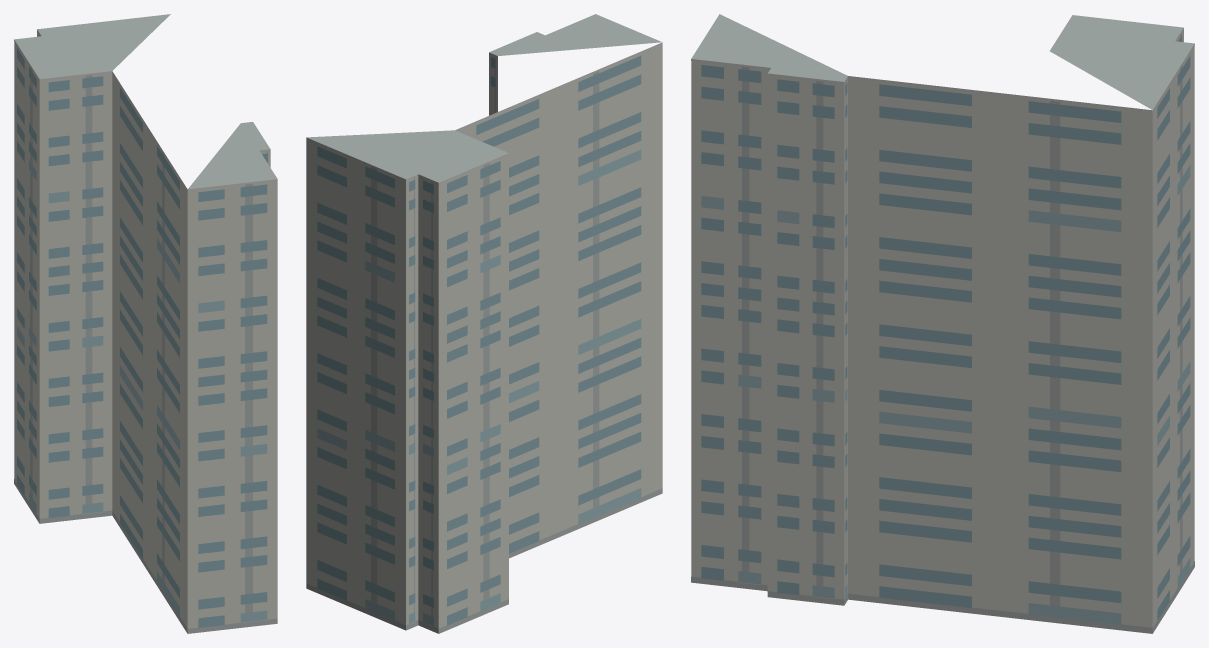
The model's file is residential-9817b2ed-4a1f-4ec3-84ad-56a0696925ec.glb.
3 renders of one model, left to right at view 1: azimuth 30°, elevation 25°; view 2: azimuth 150°, elevation 25°; view 3: azimuth 270°, elevation 25°, orthographic. The views are drawn at different scales.
Visible parts, largest first — view 1: residential-9817b2ed-4a1f-4ec3-84ad-56a0696925ec.tmp; view 2: residential-9817b2ed-4a1f-4ec3-84ad-56a0696925ec.tmp; view 3: residential-9817b2ed-4a1f-4ec3-84ad-56a0696925ec.tmp.
Boxes of the visible parts, bbox=[...] form: residential-9817b2ed-4a1f-4ec3-84ad-56a0696925ec.tmp: bbox=[14, 14, 277, 633]; residential-9817b2ed-4a1f-4ec3-84ad-56a0696925ec.tmp: bbox=[306, 14, 662, 633]; residential-9817b2ed-4a1f-4ec3-84ad-56a0696925ec.tmp: bbox=[691, 14, 1194, 633].
Bounding box in the file's own units: 25.62 × 65 × 56.66.
